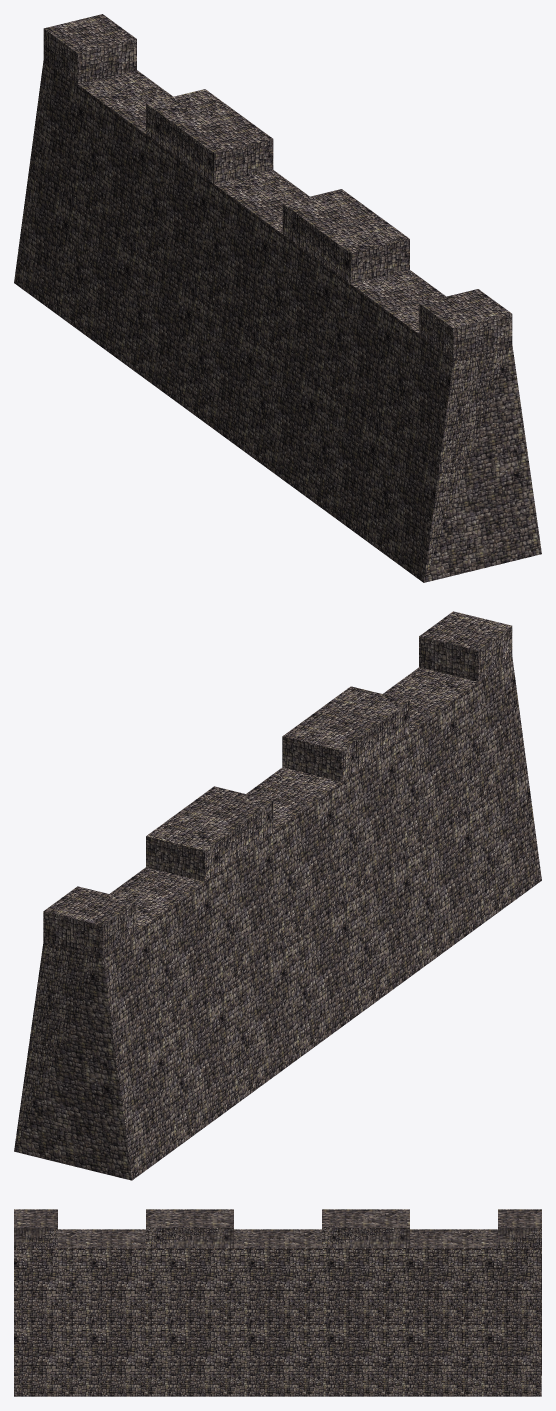
The model's file is pir_m_bld_frt_innerWall_300.fbx.
3 views of the same model, one above another, from view 1: azimuth 30°, elevation 25°; view 2: azimuth 150°, elevation 25°; view 3: azimuth 270°, elevation 25° (orthographic). The views are drawn at different scales.
Visible parts, largest first — view 1: wall_01, parapet_01; view 2: wall_01, parapet_01; view 3: wall_01, parapet_01.
Part boxes in pixels (bbox=[...]): wall_01: bbox=[14, 59, 541, 582]; parapet_01: bbox=[43, 14, 512, 358]; wall_01: bbox=[14, 657, 541, 1180]; parapet_01: bbox=[43, 611, 512, 956]; wall_01: bbox=[14, 1229, 541, 1396]; parapet_01: bbox=[14, 1209, 541, 1247].
Size of the model in its own units: 5000 by 10000 by 30009.
1 material, 1 textured.
